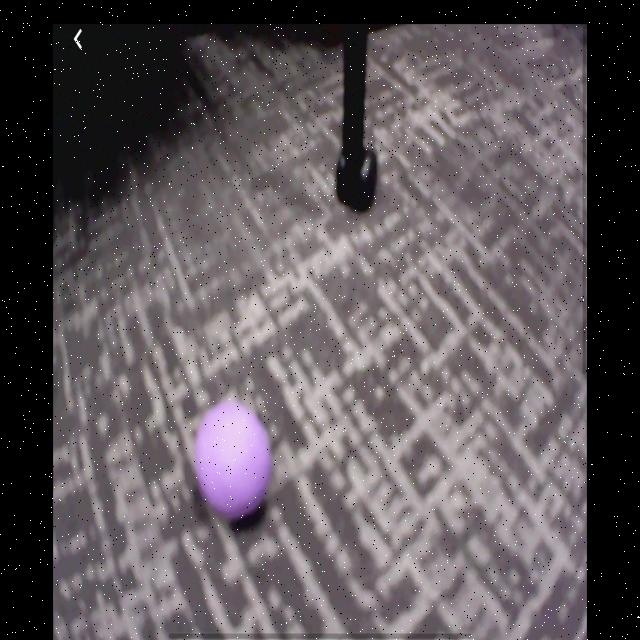ball: (193, 399, 273, 520)
